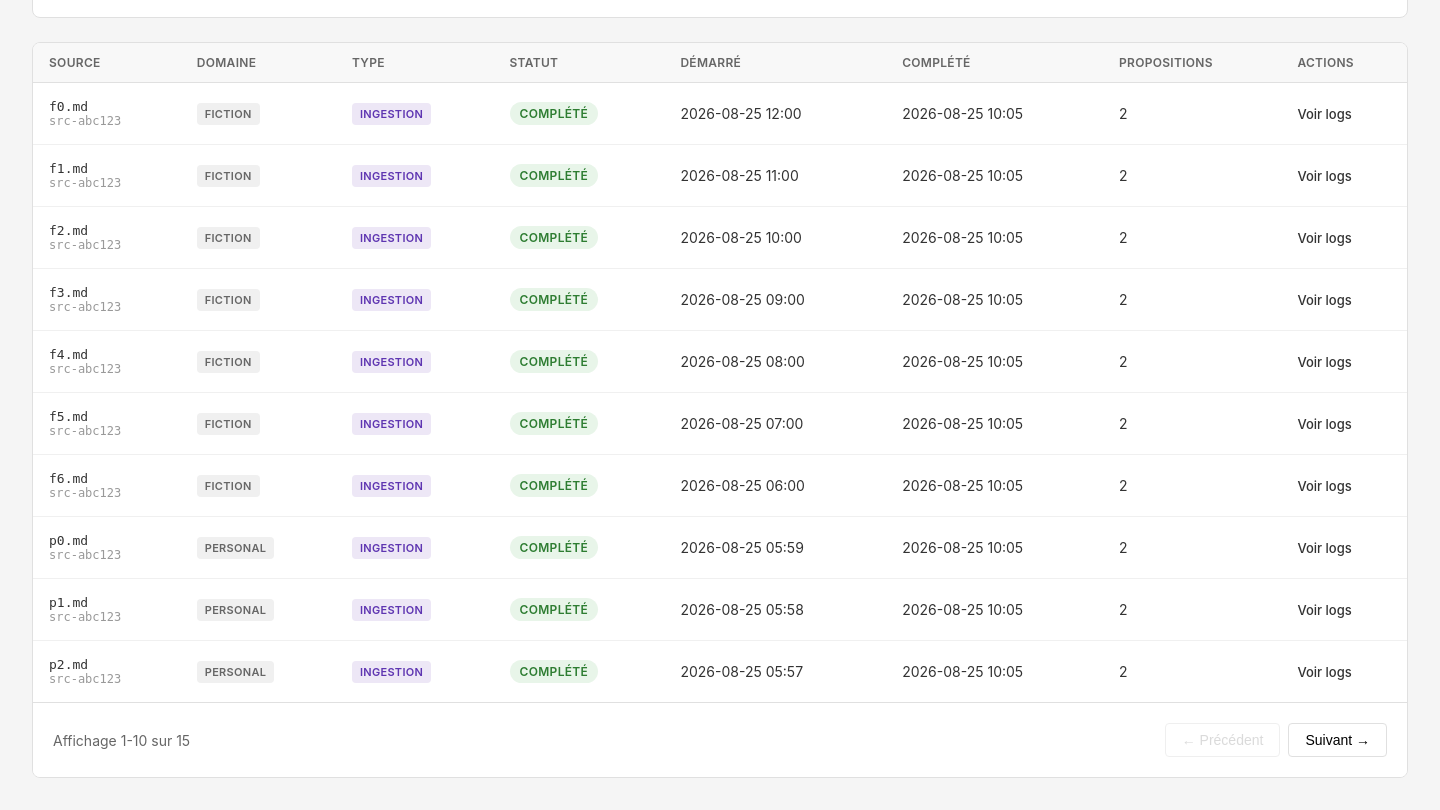
IngestionLogs › regression: paging never drops items that lost the merge on an earlier page (bug found in code review)
The image size is (1440, 810).
(page scrolled)
Expected: the text "f0.md" is shown, [49,99,88,114]
Expected: the text "p0.md" is shown, [49,533,88,548]
What coordinates should you click on to do the following:
click the button "Suivant →"
I would click on:
 (1338, 740)
Its box is [1288,723,1387,757].
(page scrolled)
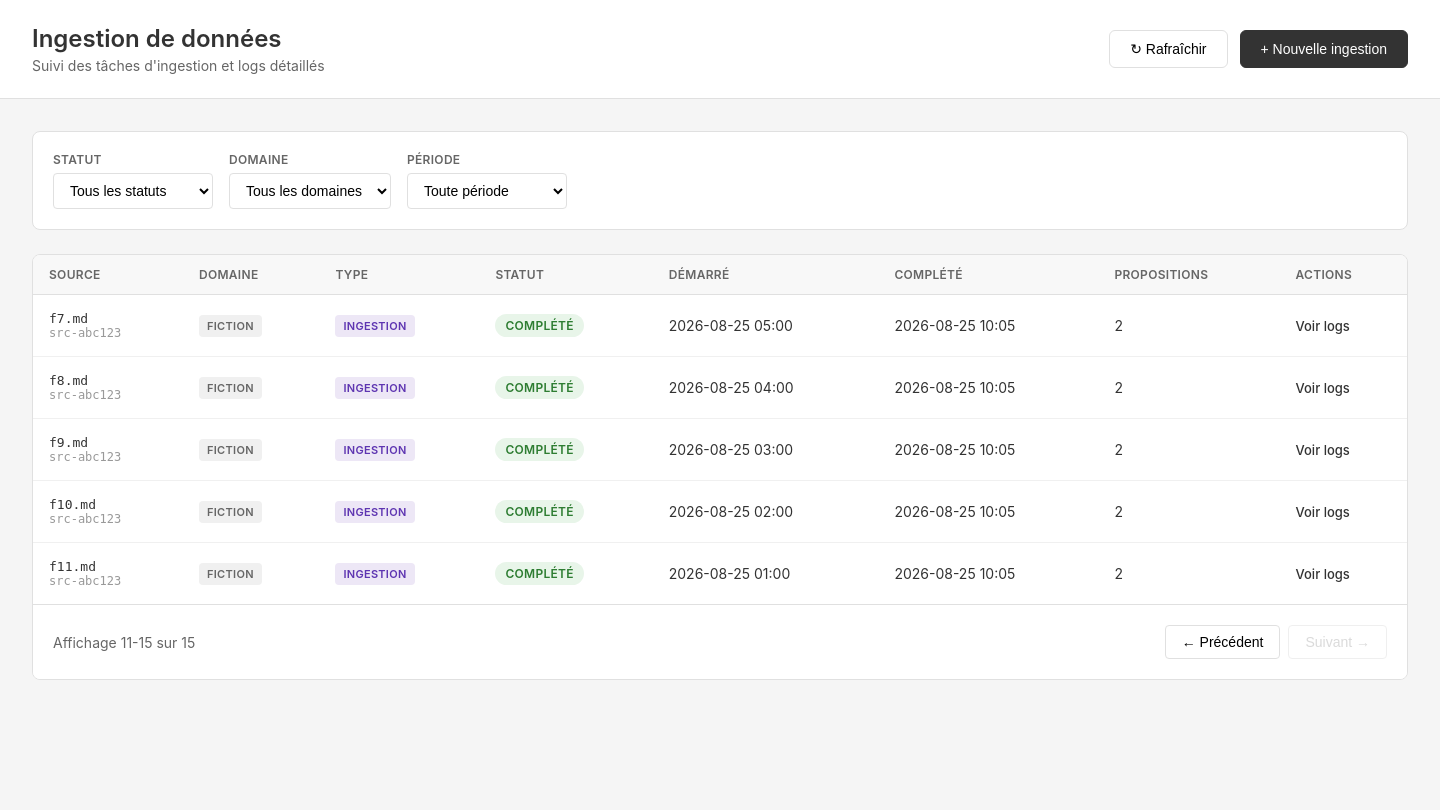
Expected: the text "f7.md" is shown, [49,311,88,326]
Expected: the text "f8.md" is shown, [49,373,88,388]
Expected: the text "f9.md" is shown, [49,435,88,450]
